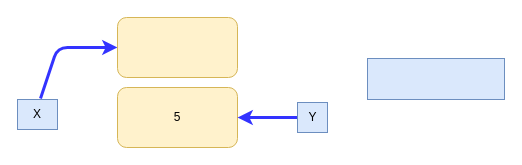
Image size: 522x165. Some labels were removed from this diagram. Each missing label, with the centre of its shape:
"hello": point (177, 47)
X refer to string "hello" and Y refer to int 5: point (435, 79)
